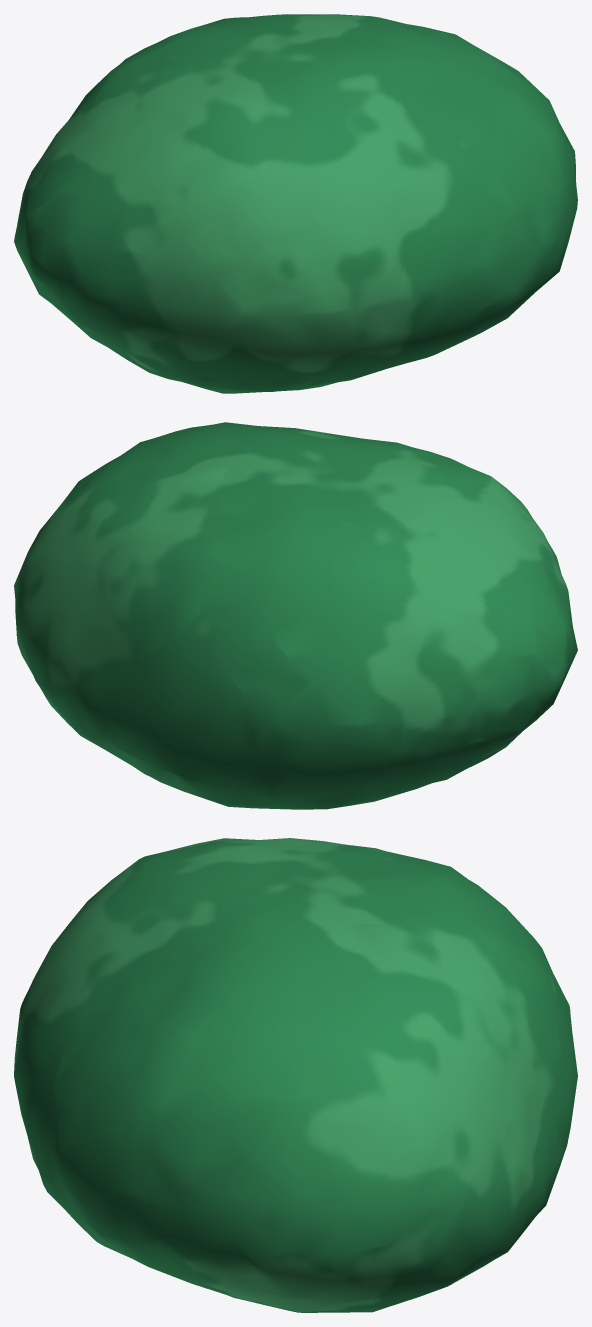
Rendered from jade_verde.fbx.
3 views of the same model, one above another, from view 1: azimuth 30°, elevation 25°; view 2: azimuth 150°, elevation 25°; view 3: azimuth 270°, elevation 25° (orthographic). The views are drawn at different scales.
Visible parts, largest first — view 1: jade_verde; view 2: jade_verde; view 3: jade_verde.
Boxes of the visible parts, x1,y1,x2,y2 form: jade_verde: (14, 14, 577, 393); jade_verde: (14, 422, 577, 809); jade_verde: (14, 838, 577, 1312).
Size of the model in its own units: 2.38 by 1.27 by 1.9.
Materials: 1 (1 with a texture image).
